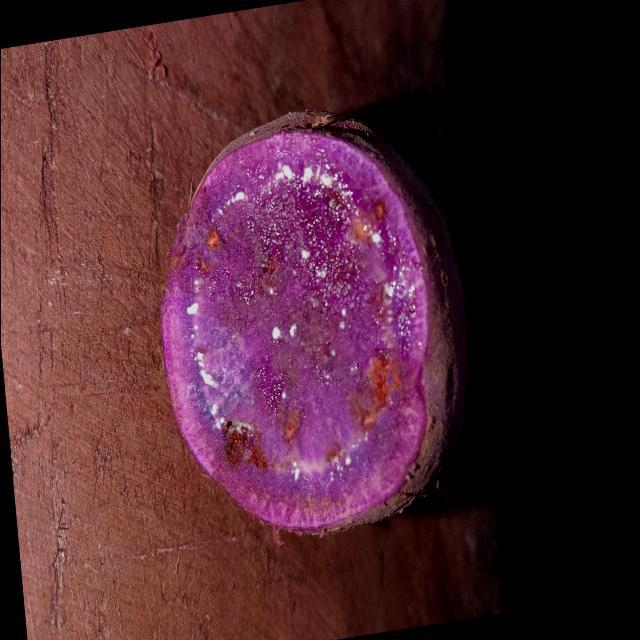Sick Sweet Potato_Tuber Rot: (161, 113, 429, 533)
